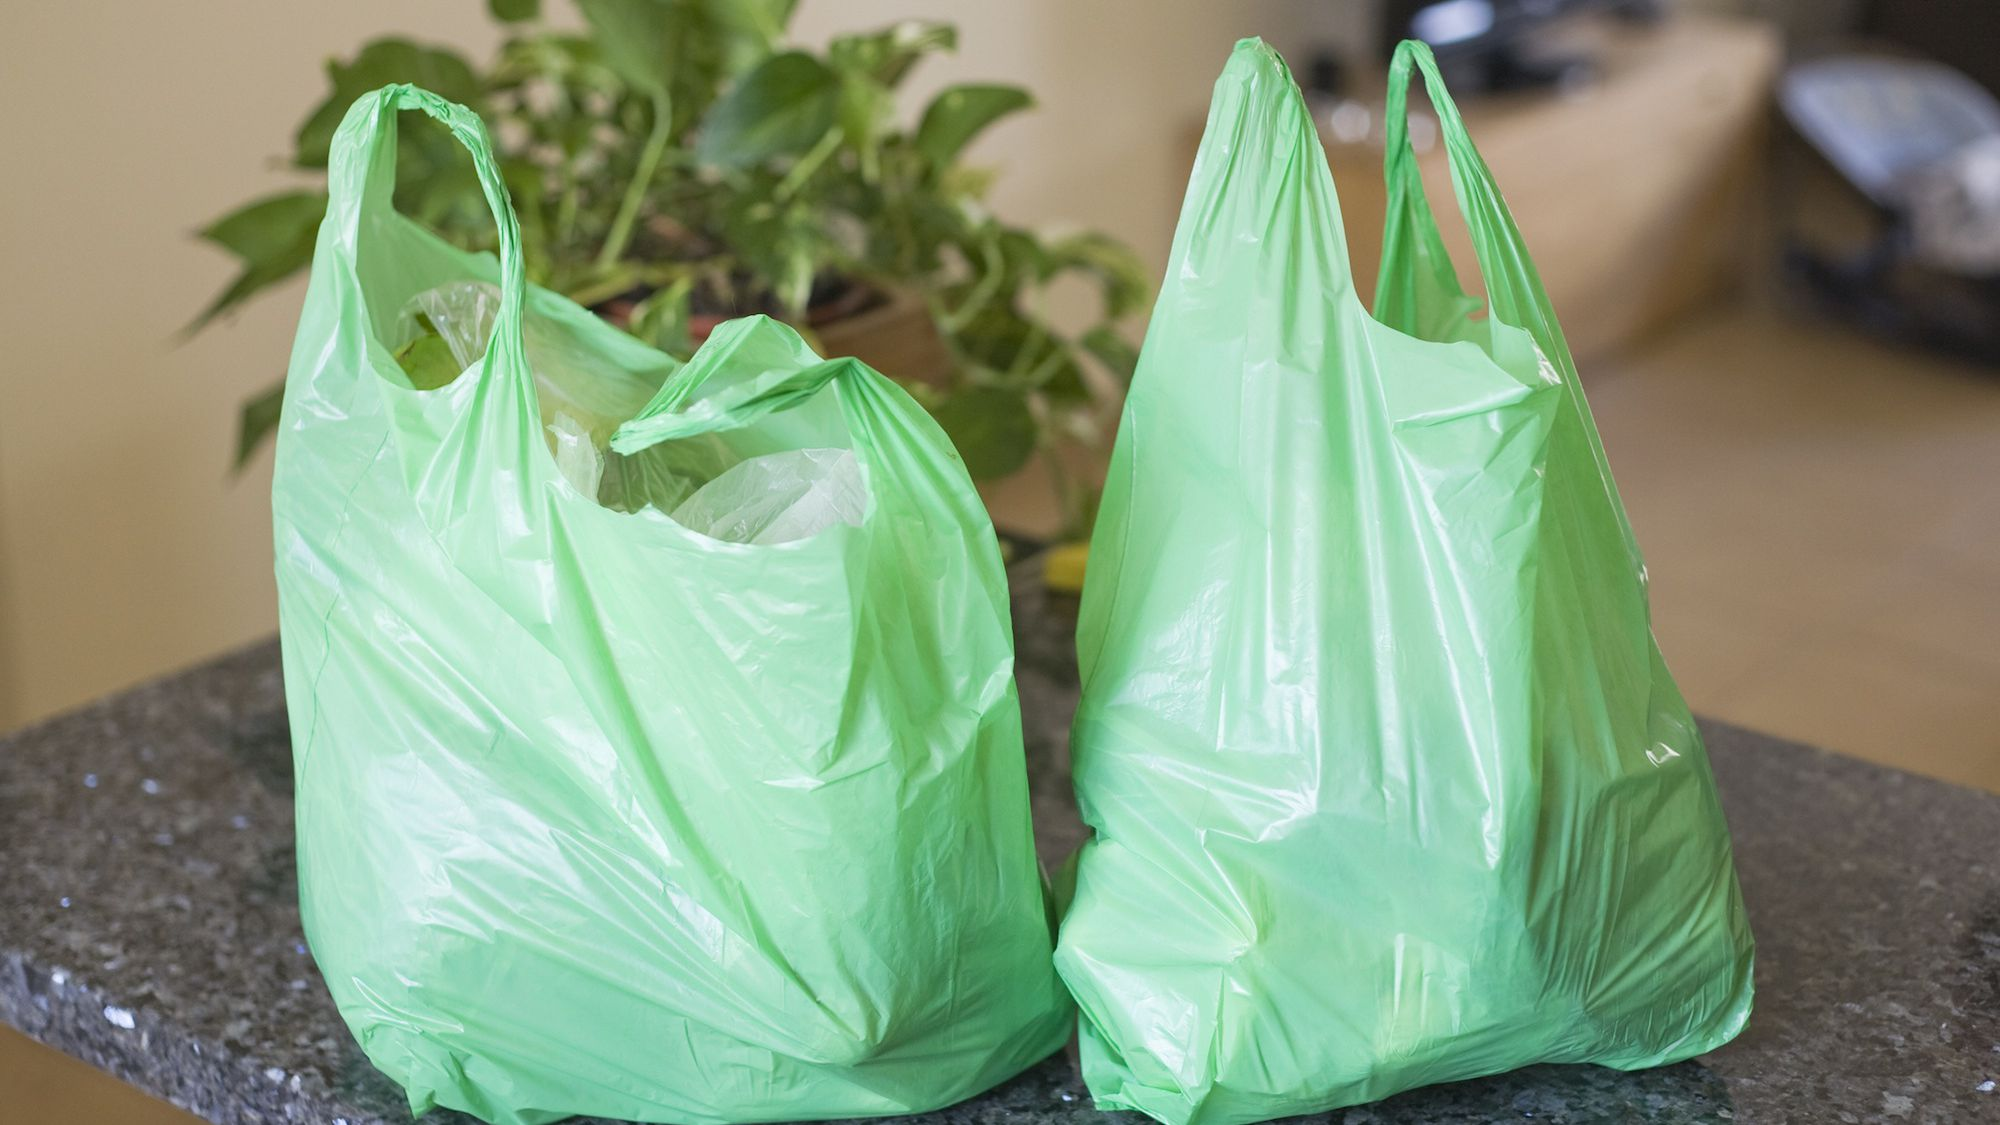plastic_bagwdw: (174, 52, 1093, 1125), (966, 30, 1824, 1125)
